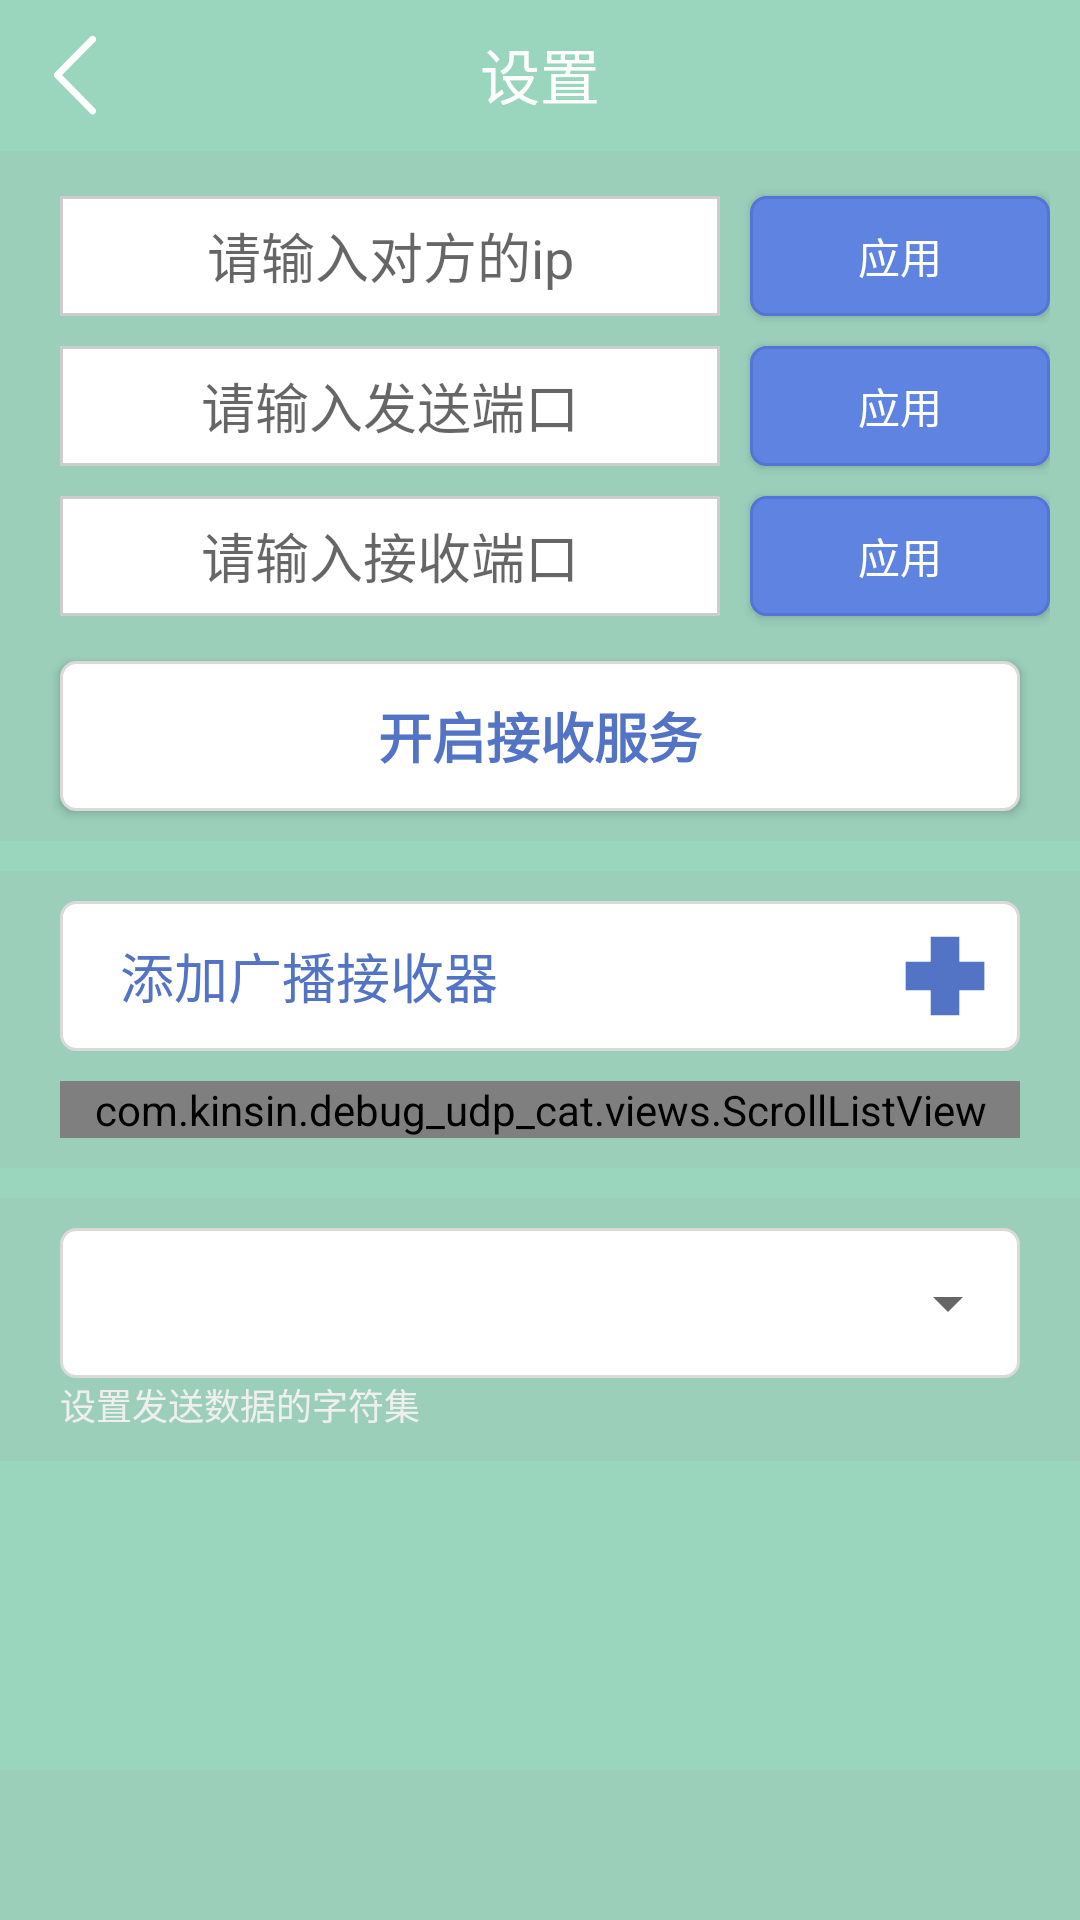

Where icons sit on this 1080w x 1920h app screen, as (x1, y1, x2, y2):
add: (905, 936, 985, 1016)
back: (54, 36, 96, 115)
